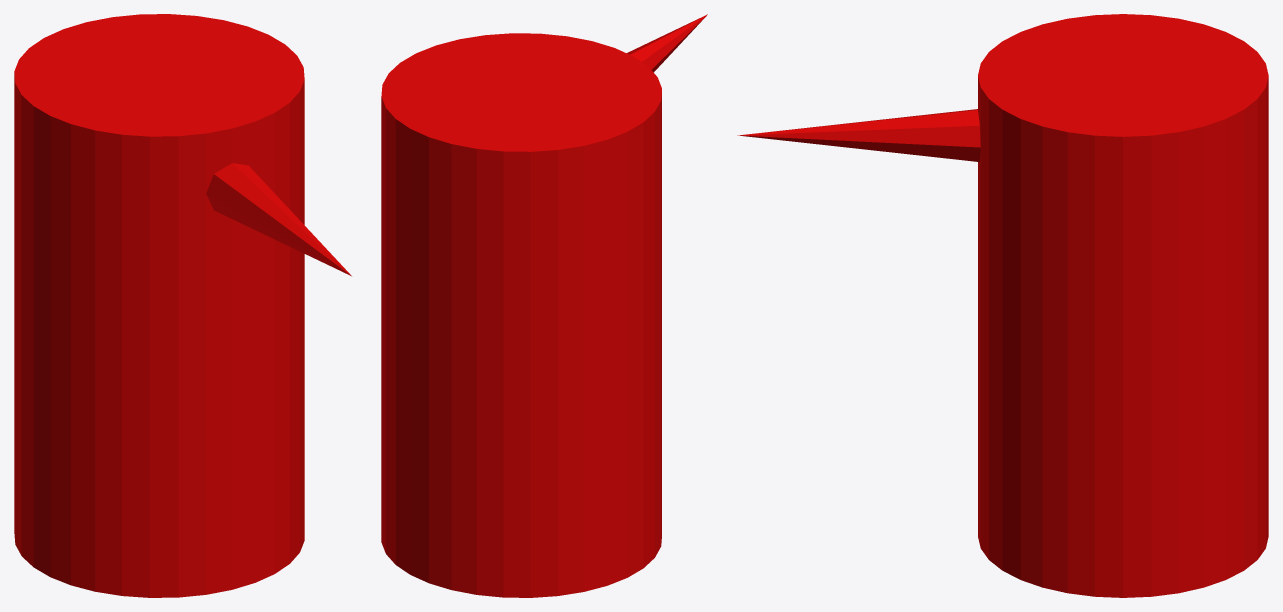
The model's file is red-beak.fbx.
The picture shows the model from 3 angles, left to right: view 1: azimuth 30°, elevation 25°; view 2: azimuth 150°, elevation 25°; view 3: azimuth 270°, elevation 25°; orthographic projection. The views are drawn at different scales.
Visible parts, largest first — view 1: Cylinder; view 2: Cylinder; view 3: Cylinder.
Part boxes in pixels (x1,y1,x2,y2): Cylinder: [14, 14, 351, 597]; Cylinder: [381, 14, 707, 597]; Cylinder: [737, 14, 1268, 597].
Bounding box in the file's own units: 100 × 175 × 183.
